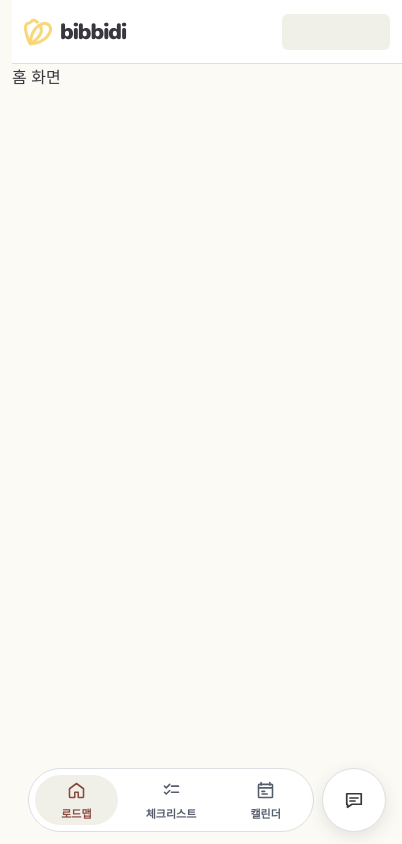
Test case: ServiceLayout › 서비스 경로가 변경되면 콘텐츠 스크롤을 맨 위로 초기화한다
Expected: the element with class "service-layout__content" is shown, [12,67,61,87]
Click the link "로드맵".
click(76, 800)  # box [35,775,118,825]
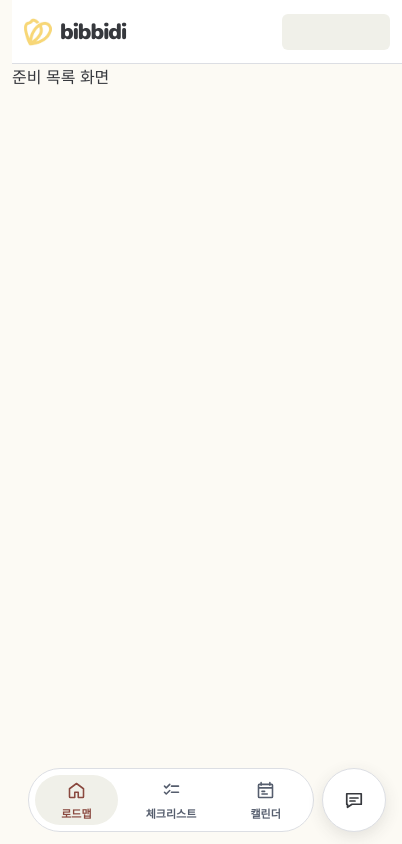
Now the text "준비 목록 화면" is shown, box [12,67,109,87]
